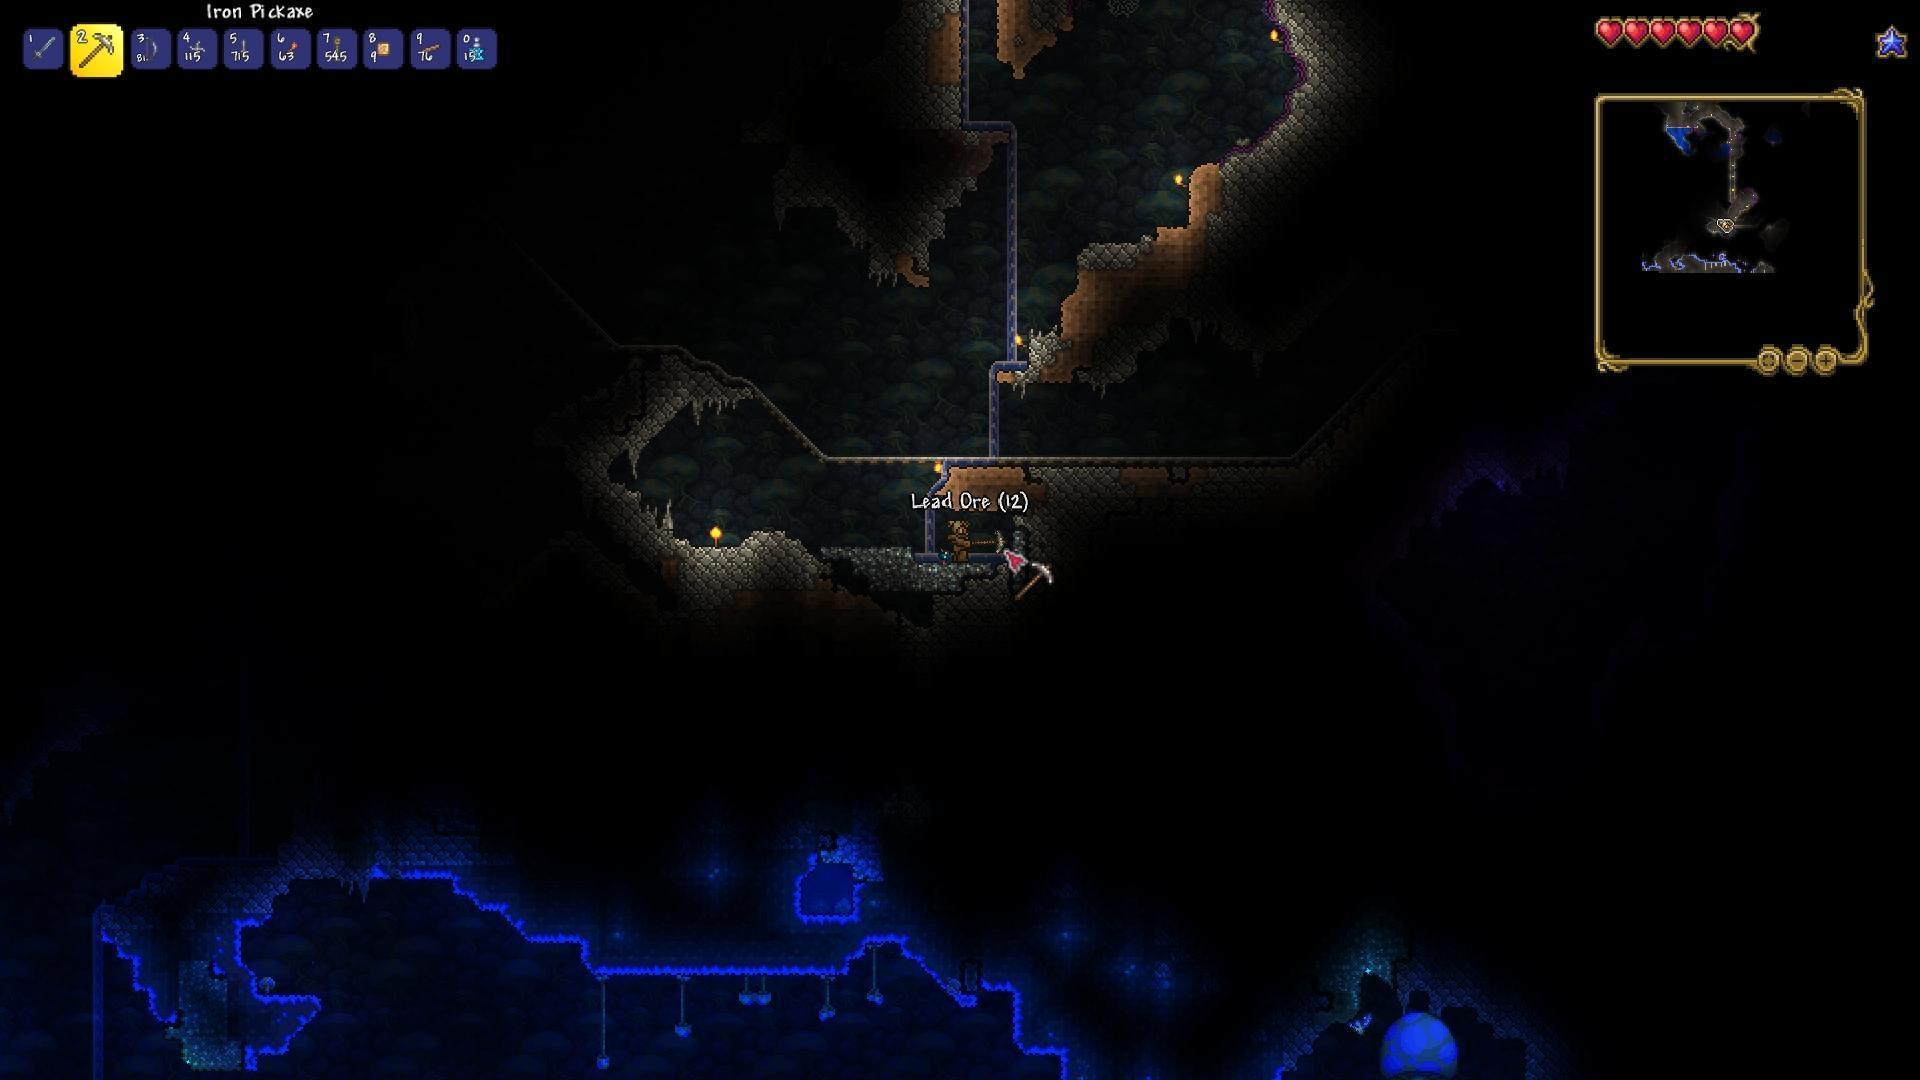bow: (142, 33, 158, 65)
knife: (237, 37, 248, 58)
pickaxe: (78, 33, 113, 71)
platform: (419, 41, 444, 53)
rope: (332, 36, 343, 61)
shuriken: (189, 38, 204, 58)
